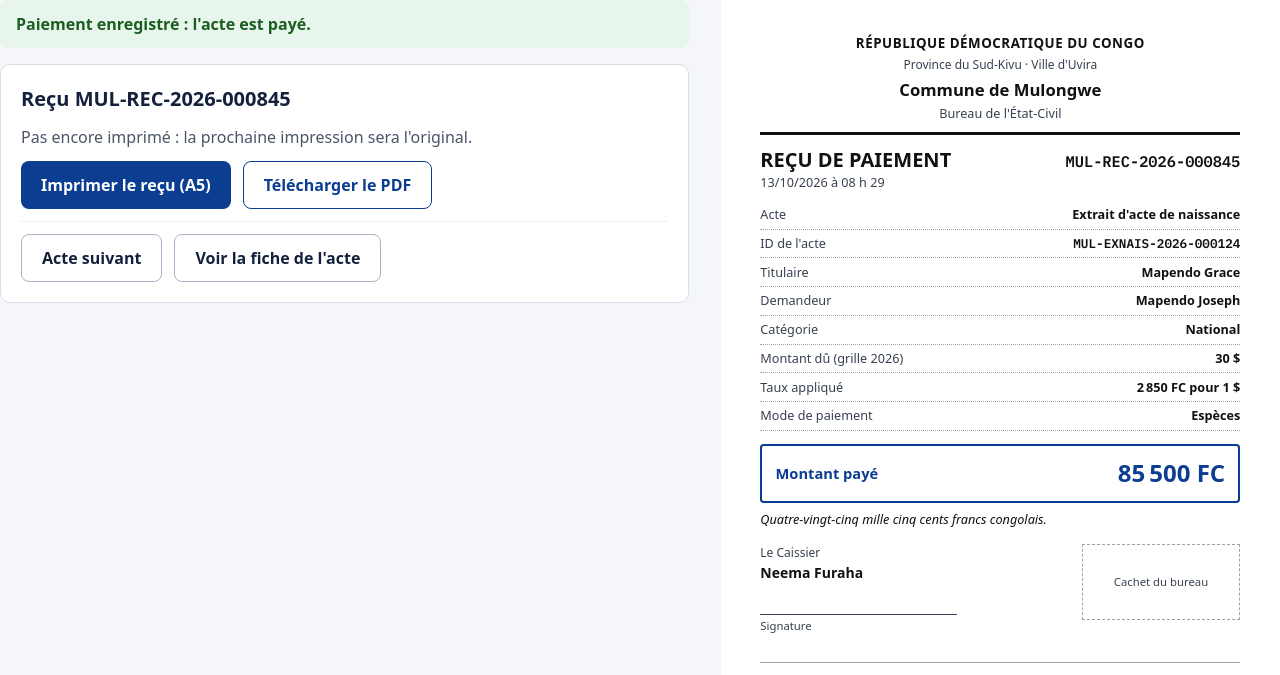
Imprimer le reçu › refus de la base : message, pas d'impression
The width and height of the screenshot is (1280, 675).
Step 1. Click the button "Imprimer le reçu (A5)" → (126, 185), box [21, 161, 231, 209]
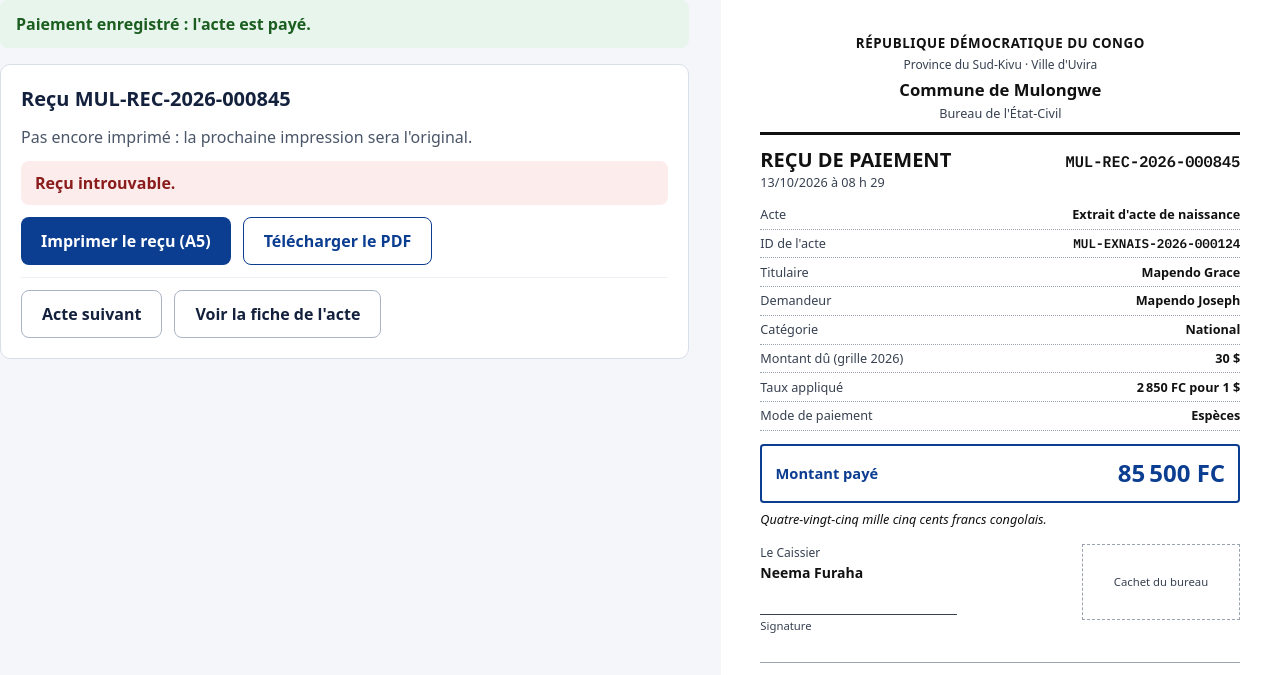
Expected: the message "Reçu introuvable." is shown, [21, 161, 668, 205]
